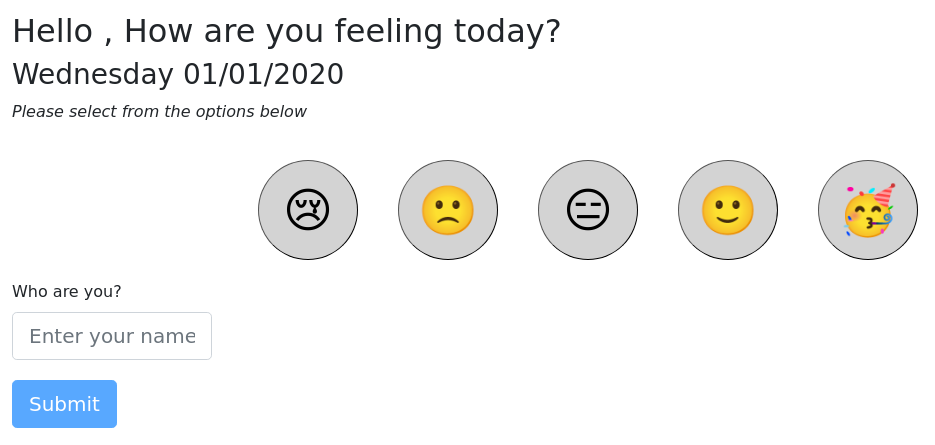
Test case: Colleague Interface component › disables the Submit button until both a mood is selected and a name is entered
Check: the button "Submit" is disabled, box [12,380,117,428]
Step 1. Click the button named "ecstatic" → (868, 210), box [818,160,918,260]
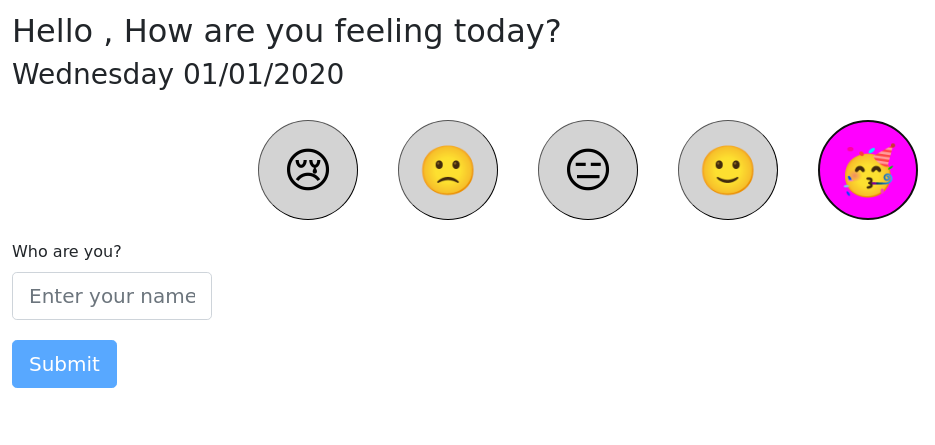
Check: the button "Submit" is disabled, box [12,340,117,388]
Step 2. Type "tester" into the field labelled "Who are you?" → (112, 296), box [12,272,212,320]
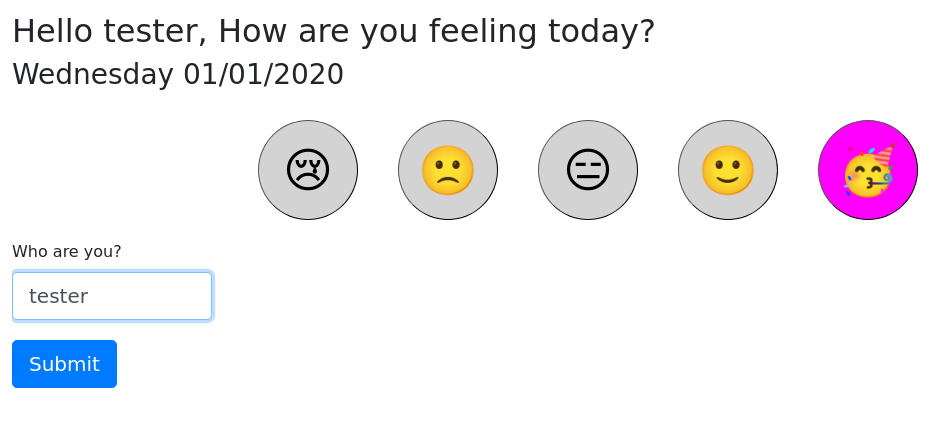
Check: the button "Submit" is enabled, box [12,340,117,388]
